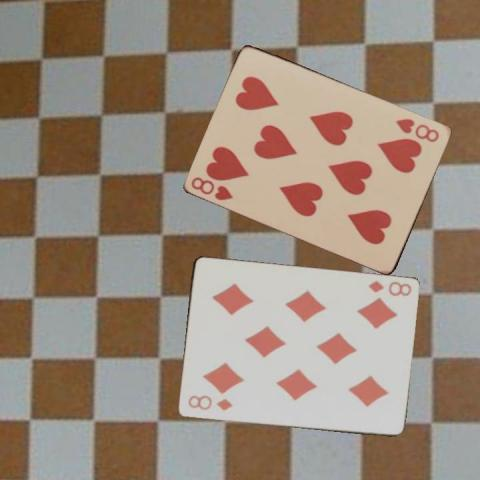8d: (185, 392, 233, 412), (364, 278, 412, 298)
8h: (393, 115, 441, 144), (188, 173, 235, 202)
